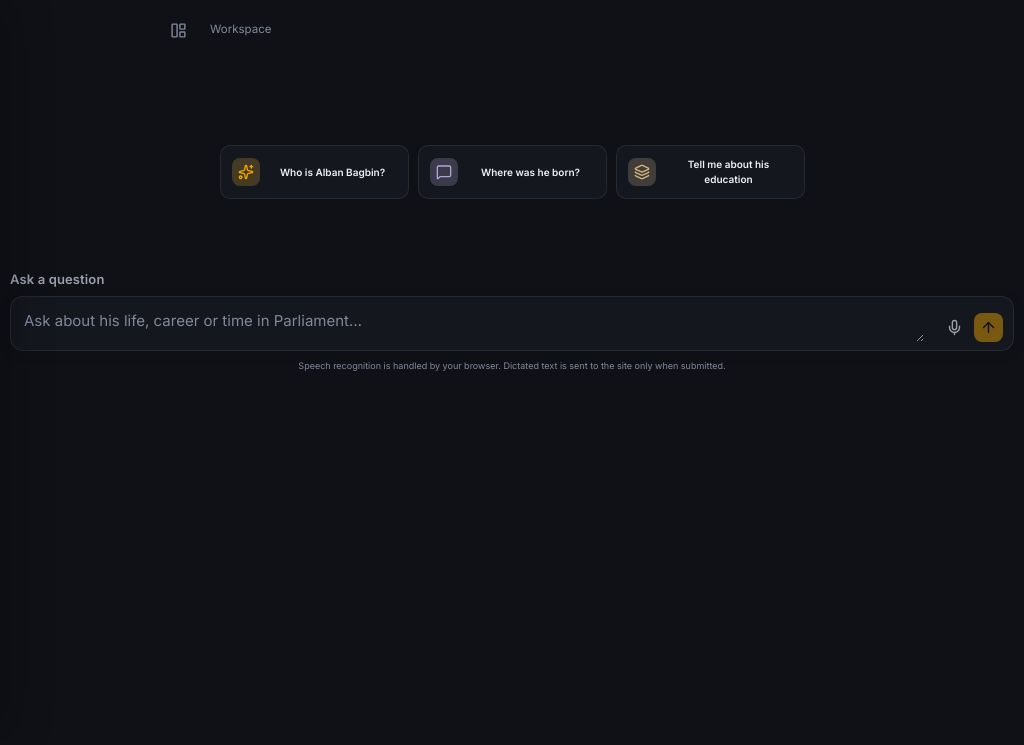
Test: /ask answer transparency › shows which terms were searched for
Type "digitalisation youth" into the text box with placeholder "Ask about his life, career or time in Parliament…" at x=474, y=323, box 24,305 -> 924,342
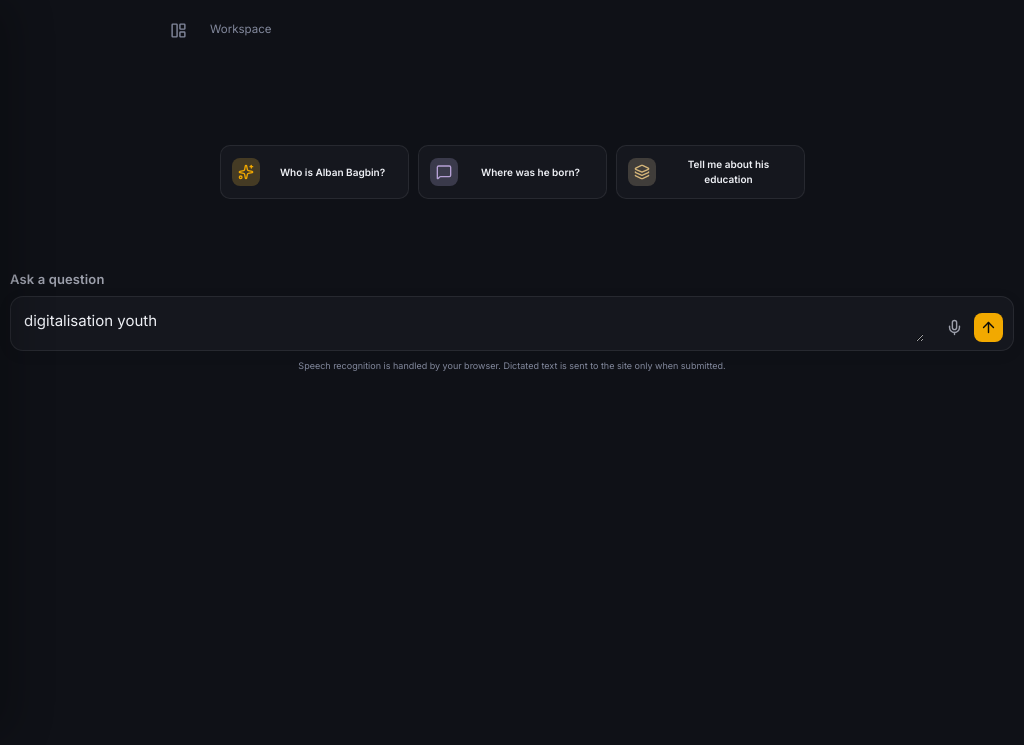
Click the button named "Send question" at x=988, y=327, box 974,313 -> 1003,342
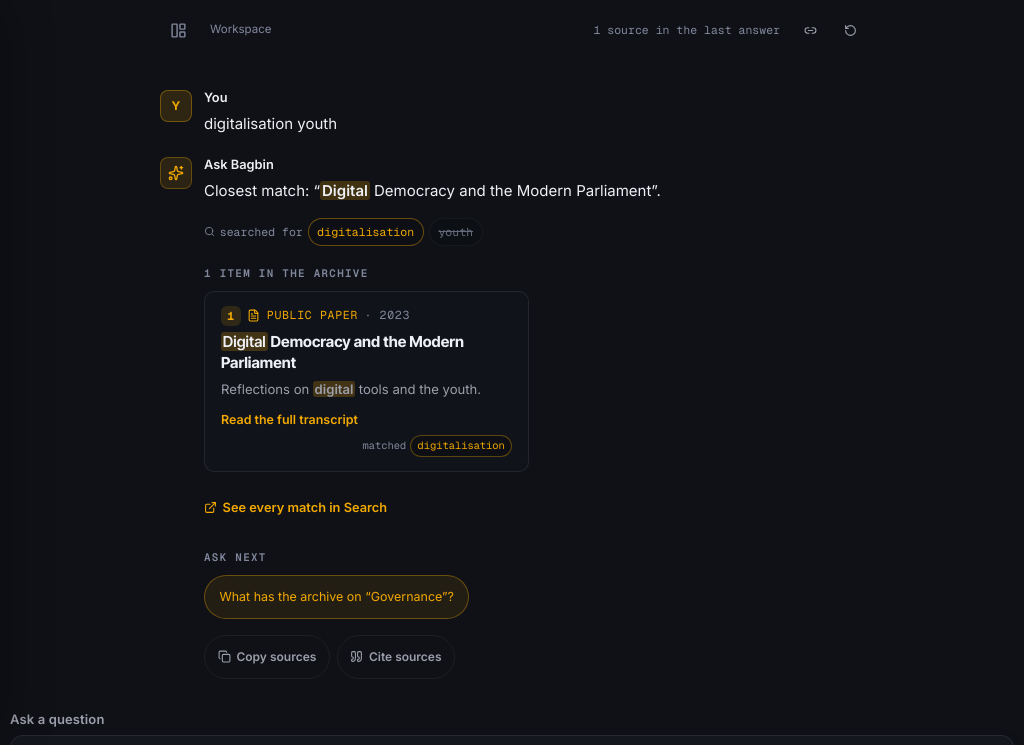
Expected: the text "searched for" is shown, 220,222 -> 303,242
Expected: the text "youth" is shown, 429,218 -> 483,246
